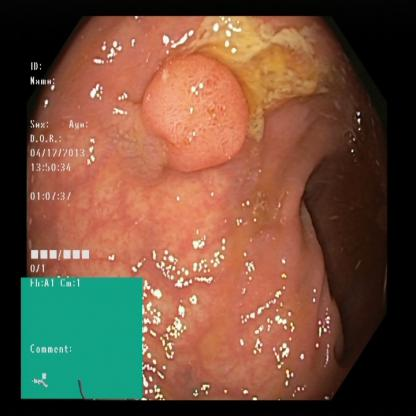Labels: (18, 275, 146, 401), (28, 58, 92, 276)
Polyps: (150, 53, 244, 161)
